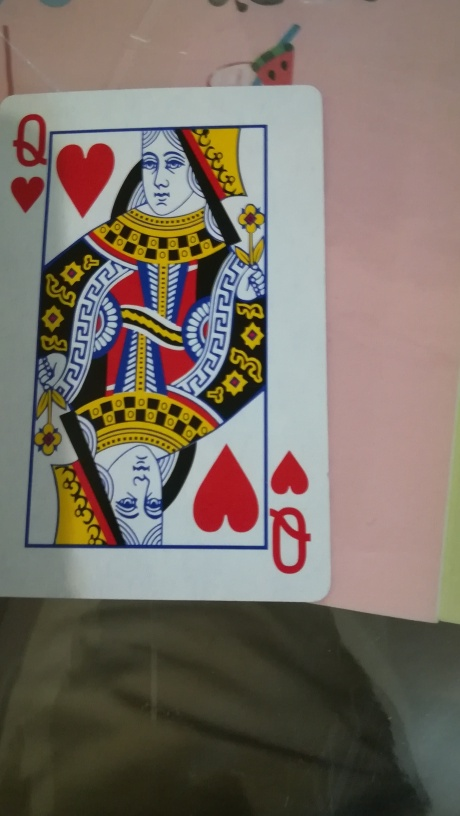hx q: (2, 91, 330, 603)
